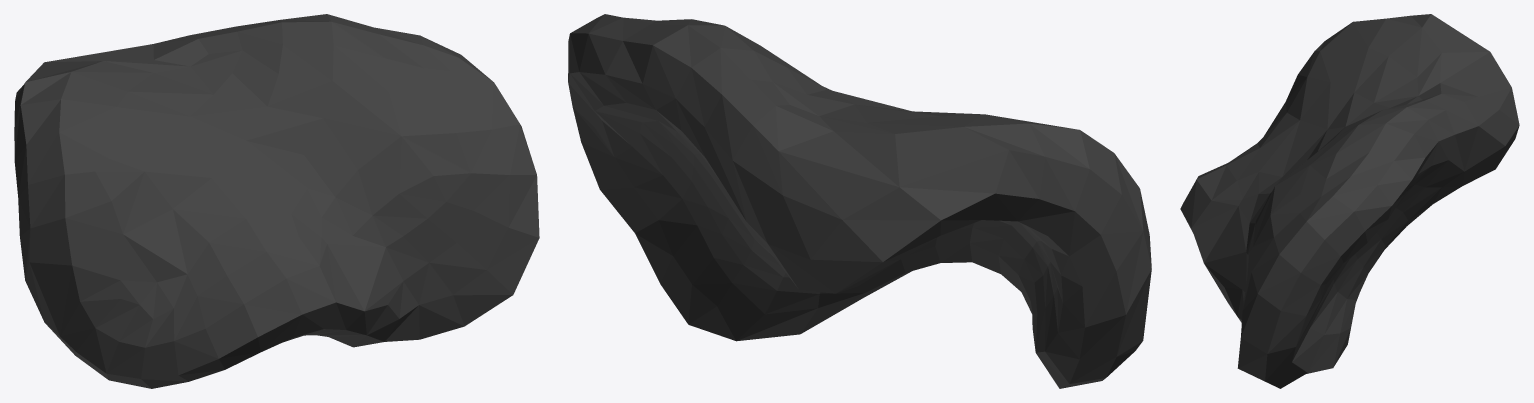
Rendered from LHL_tibia2.glb.
The picture shows the model from 3 angles, left to right: view 1: azimuth 30°, elevation 25°; view 2: azimuth 150°, elevation 25°; view 3: azimuth 270°, elevation 25°; orthographic projection. The views are drawn at different scales.
Visible parts, largest first — view 1: LHL_tibia2; view 2: LHL_tibia2; view 3: LHL_tibia2.
Part boxes in pixels (x1=…): LHL_tibia2: x1=14, y1=14, x2=539, y2=388; LHL_tibia2: x1=568, y1=14, x2=1151, y2=388; LHL_tibia2: x1=1180, y1=14, x2=1519, y2=388.
Size of the model in its own units: 15.83 by 8.92 by 11.16.
Materials: 1 (1 with a texture image).
